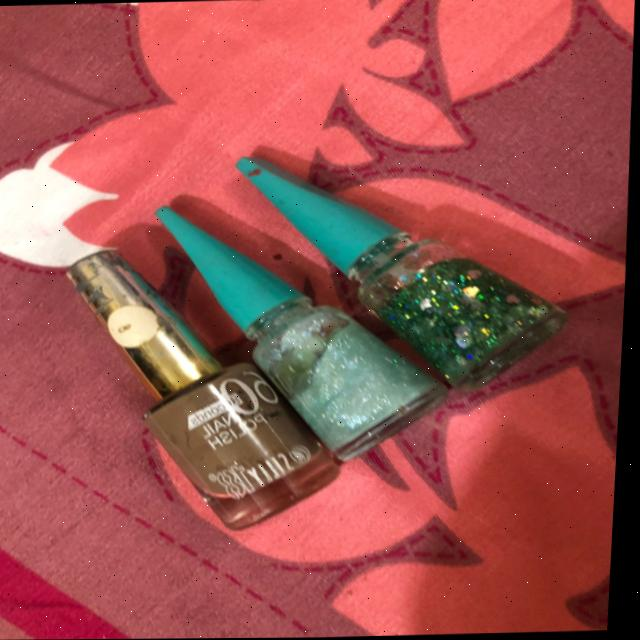nail polish: (356, 221, 590, 388), (141, 360, 356, 533), (241, 279, 451, 456)
